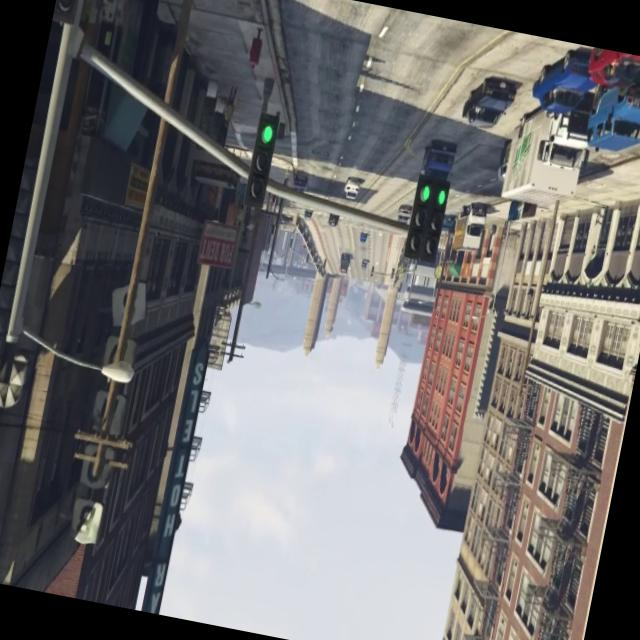Green-Signal: (399, 166, 455, 272), (238, 101, 286, 221), (50, 0, 92, 36)
